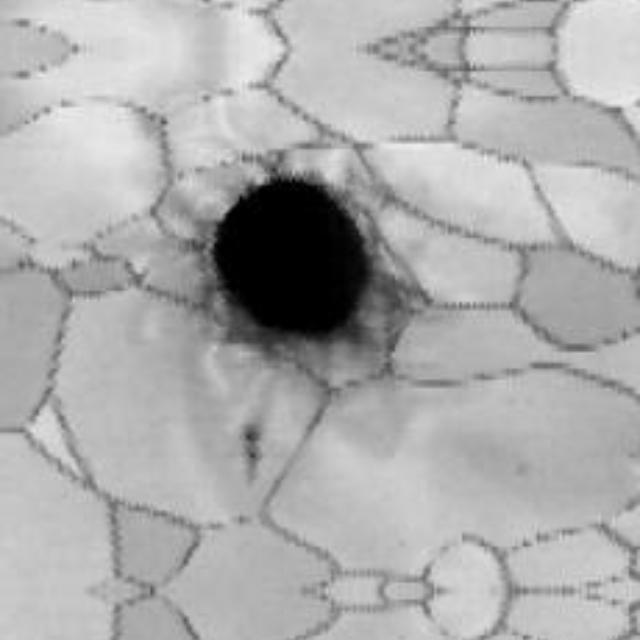good_void: (183, 154, 411, 369), (242, 432, 263, 465)
